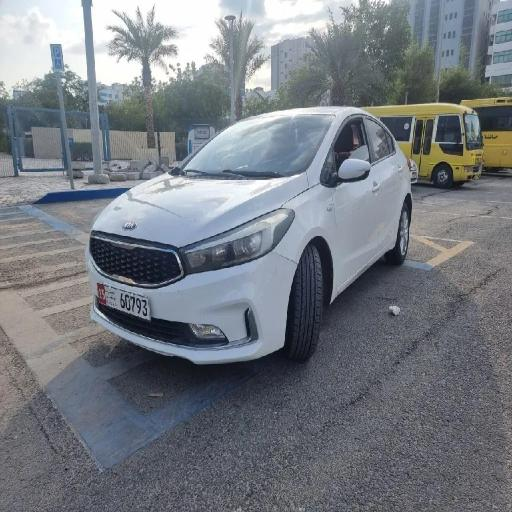license-plates: (97, 282, 150, 321)
